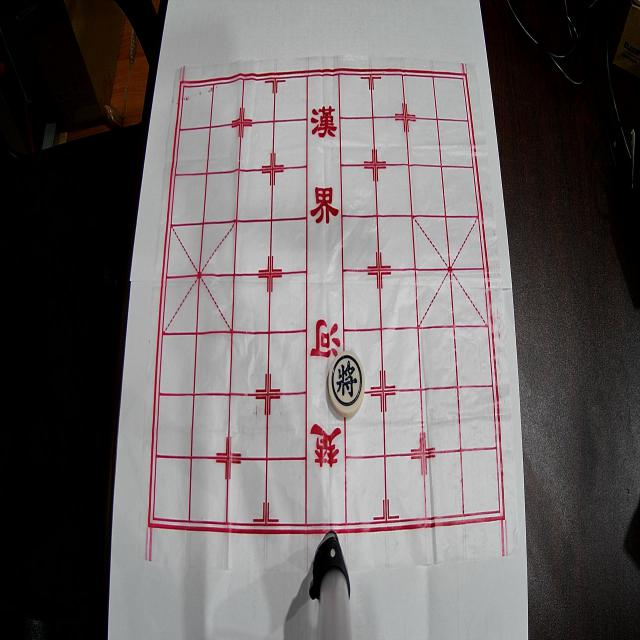black-general: (328, 351, 366, 417)
